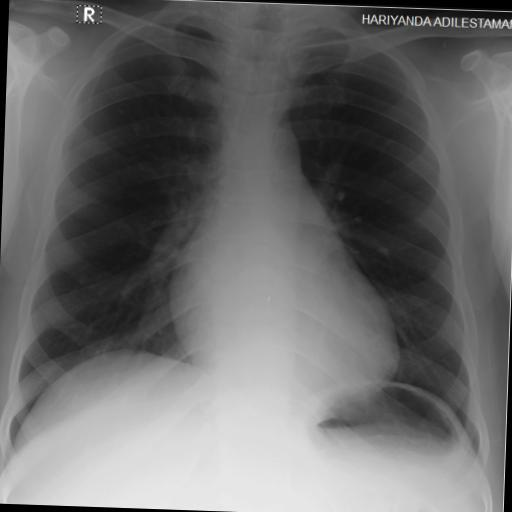kardiomegali: (0, 0, 509, 474)
